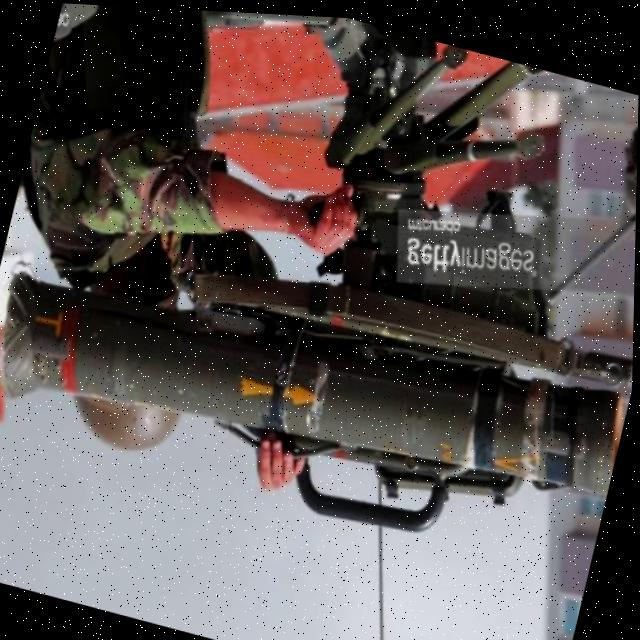rocket: (0, 138, 638, 615)
